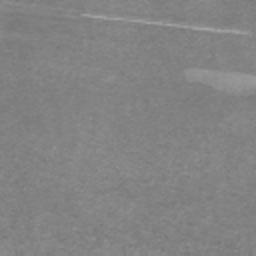Finishing roll printing: (81, 13, 250, 36)
